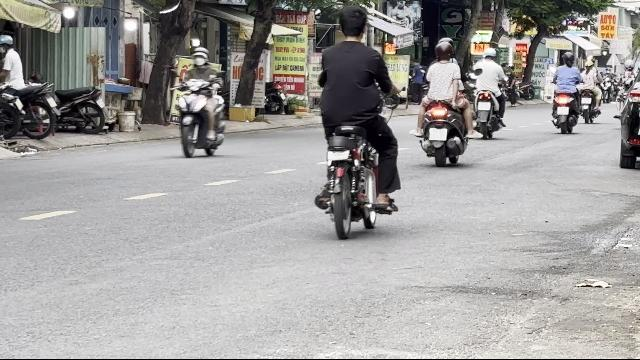helmet: (190, 46, 210, 66), (434, 41, 454, 61), (0, 34, 14, 52)
licenseplate: (429, 128, 446, 138)
motorcyclist: (310, 3, 406, 237), (412, 38, 472, 166), (0, 32, 62, 144), (172, 44, 230, 158)
nohelmet: (336, 5, 368, 41)
